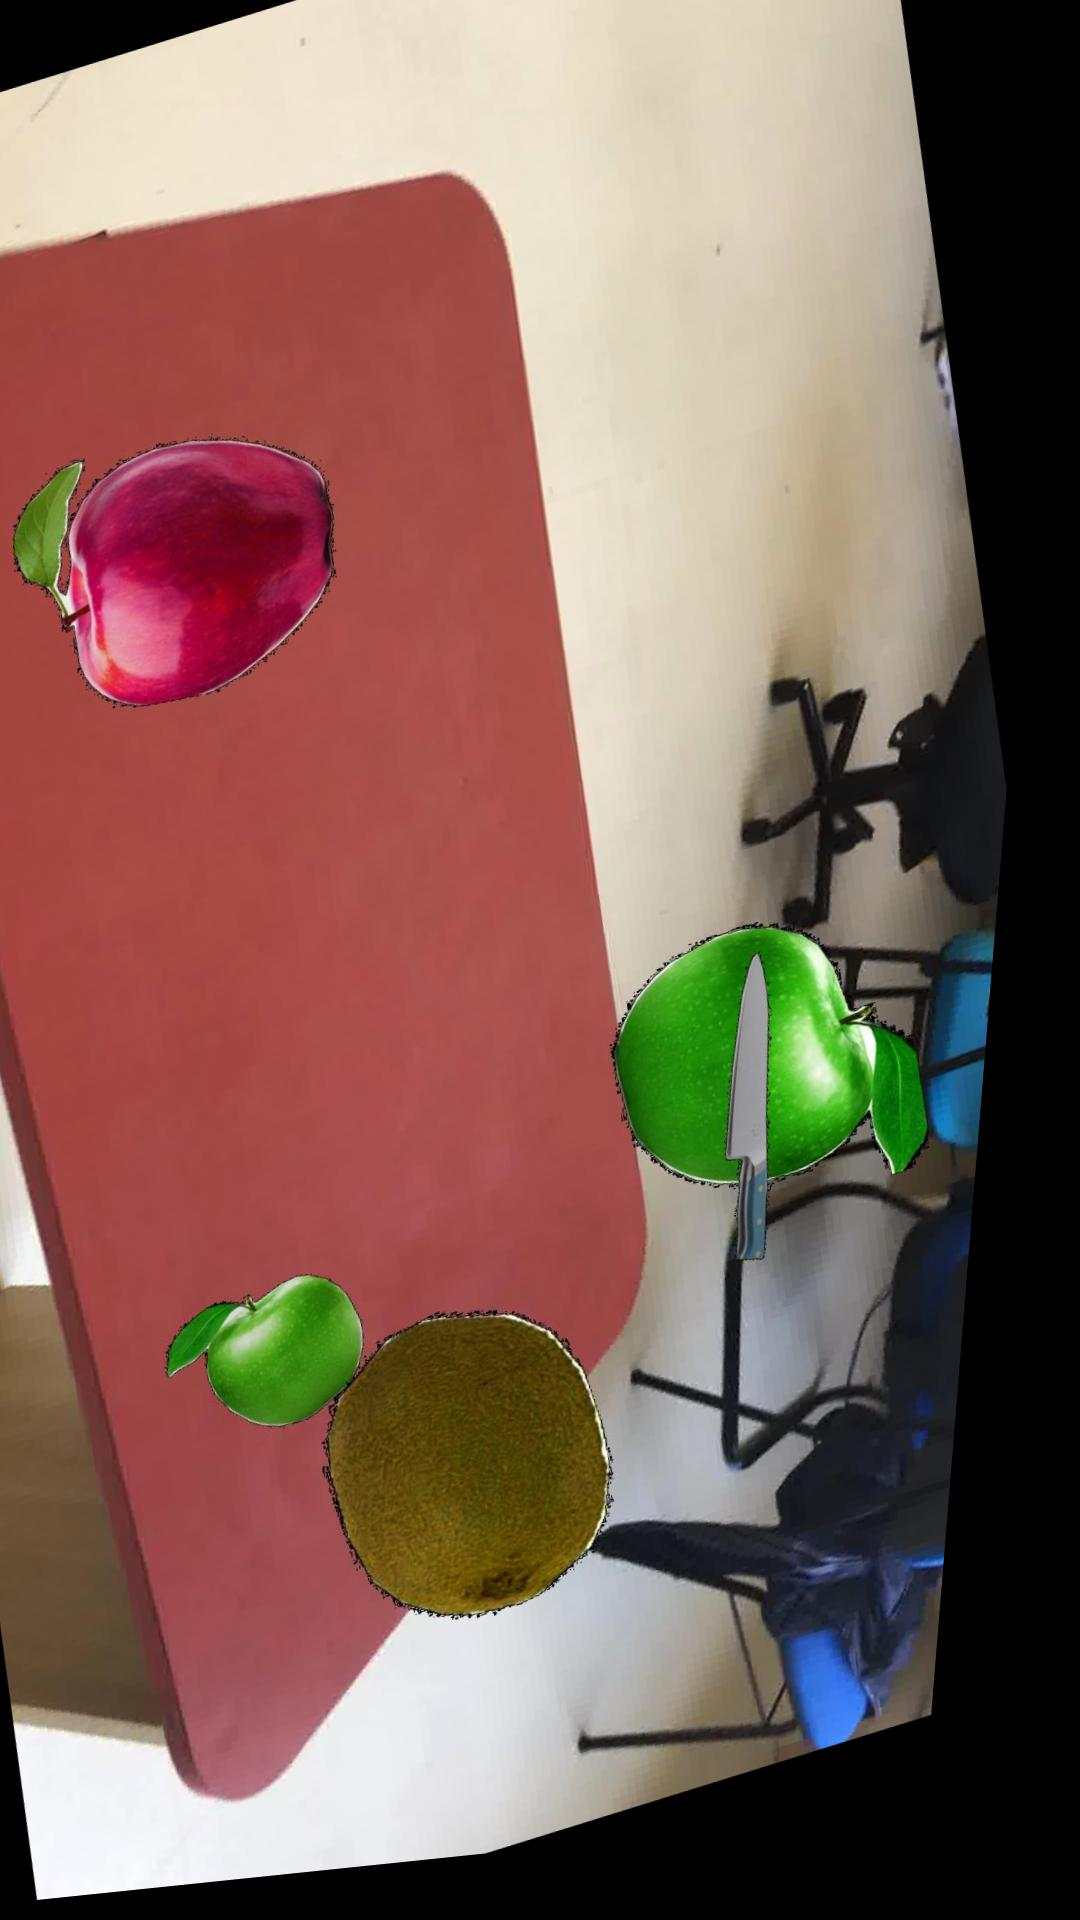apple: (20, 440, 342, 711)
green apple: (626, 939, 947, 1204), (186, 1282, 385, 1435)
kiwi: (345, 1321, 637, 1631)
knife: (742, 969, 790, 1276)
